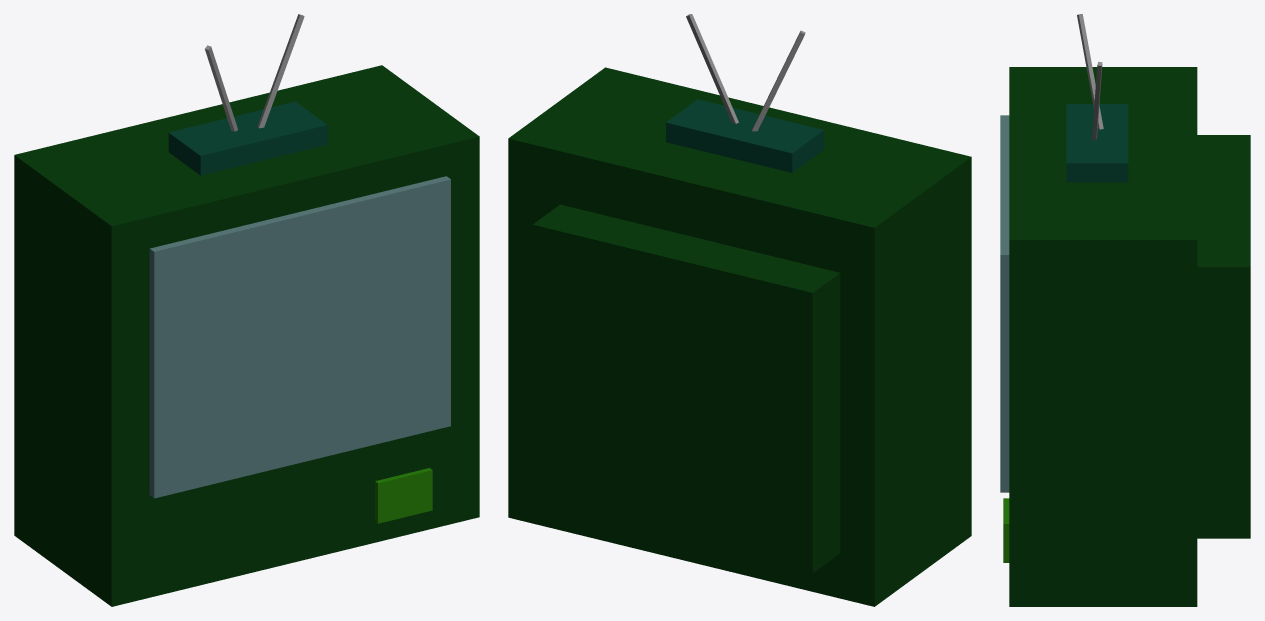
File: Furniture_TVmodel_GameJam.fbx
The picture shows the model from 3 angles, left to right: view 1: azimuth 30°, elevation 25°; view 2: azimuth 150°, elevation 25°; view 3: azimuth 270°, elevation 25°; orthographic projection. The views are drawn at different scales.
Parts seen in each view (by area): view 1: Tvreciever2; view 2: Tvreciever2; view 3: Tvreciever2.
Part boxes in pixels (box(x1,y1,x2,y2)): Tvreciever2: box(14, 14, 479, 606); Tvreciever2: box(508, 14, 971, 606); Tvreciever2: box(1000, 14, 1250, 606).
Size of the model in its own units: 3.78 by 4.92 by 2.31.
